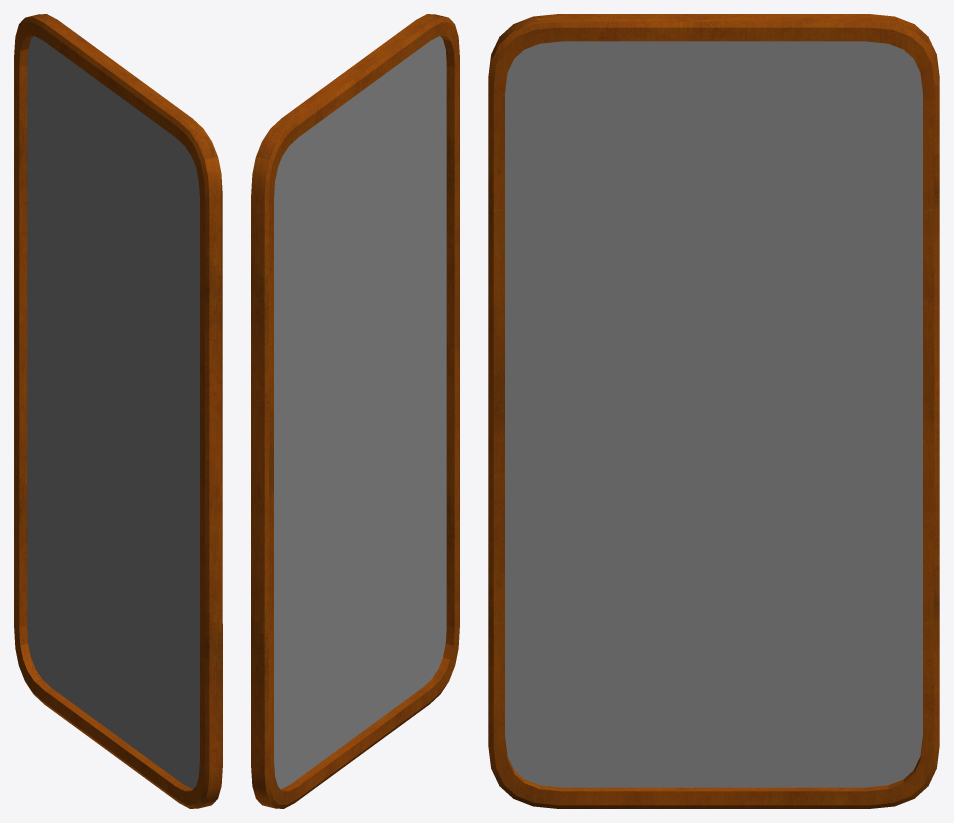
3 renders of one model, left to right at view 1: azimuth 30°, elevation 25°; view 2: azimuth 150°, elevation 25°; view 3: azimuth 270°, elevation 25°, orthographic. The views are drawn at different scales.
Visible parts, largest first — view 1: Object018, Box044; view 2: Object018, Box044; view 3: Object018, Box044.
Part boxes in pixels (box(x1,y1,x2,y2)): Object018: box(27, 36, 199, 789); Box044: box(14, 14, 222, 808); Object018: box(274, 36, 446, 789); Box044: box(251, 14, 459, 808); Object018: box(505, 41, 922, 787); Box044: box(488, 14, 939, 808).
Size of the model in its own units: 3.13 by 115 by 59.9.
Materials: 2 (1 with a texture image).
